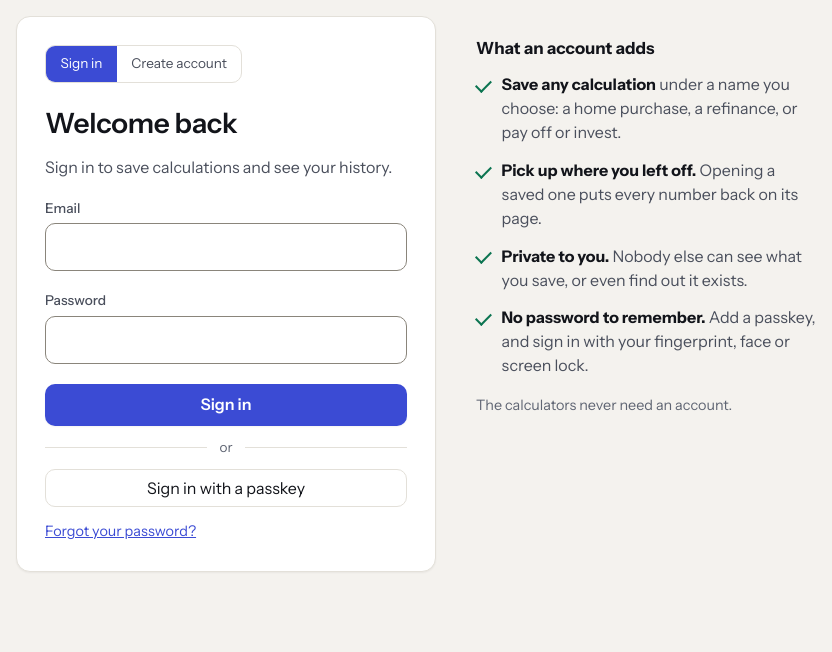
Test case: SignInPageComponent › says plainly when the email and password do not match
Type "alice@example.com" into the field labelled "Email".
click(226, 247); type("alice@example.com")  # box [45,223,407,271]
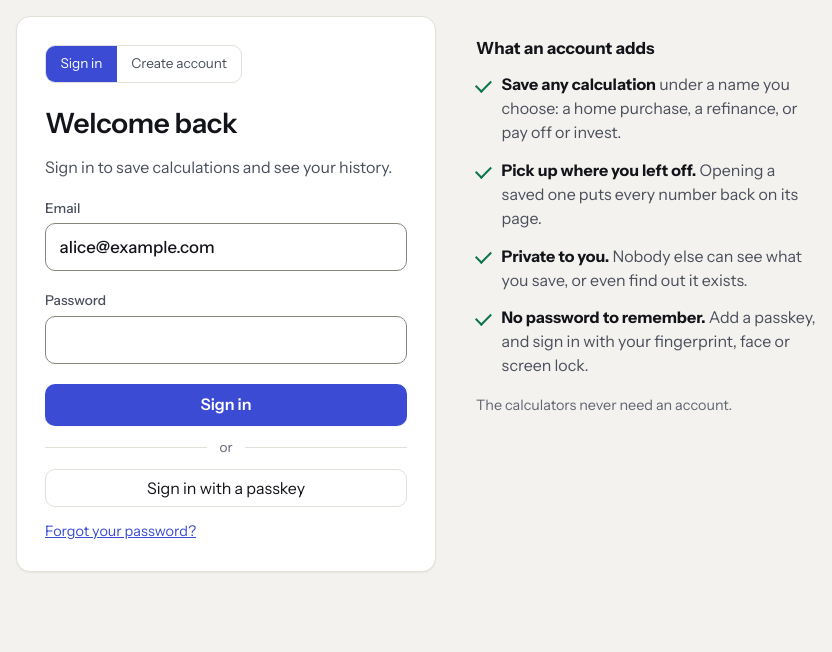
Type "correct-horse-1" into the password field labelled "Password".
click(226, 340); type("correct-horse-1")  # box [45,316,407,364]
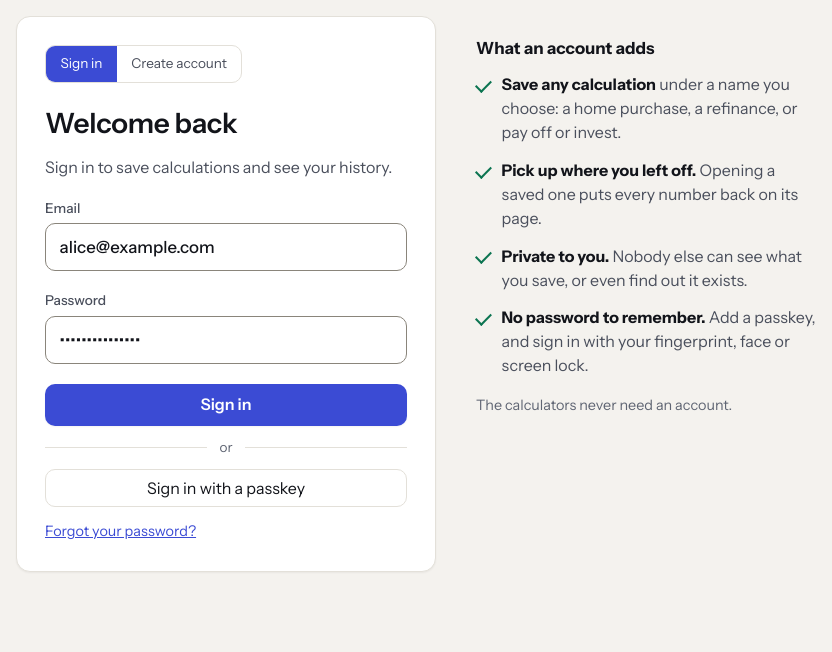
Submit the form, box [45,199,407,426]
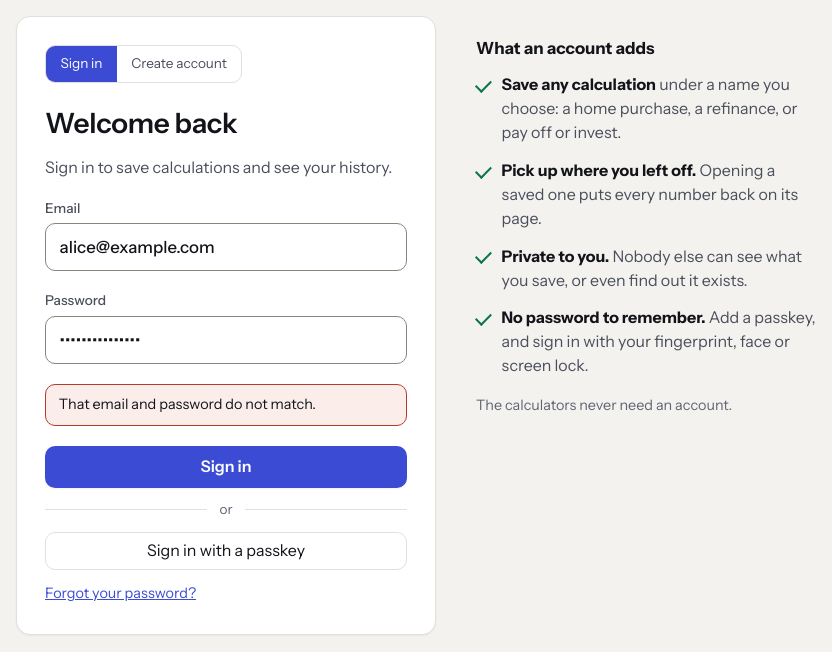
Check: the message "That email and password do not match." is shown, box [45,384,407,426]
